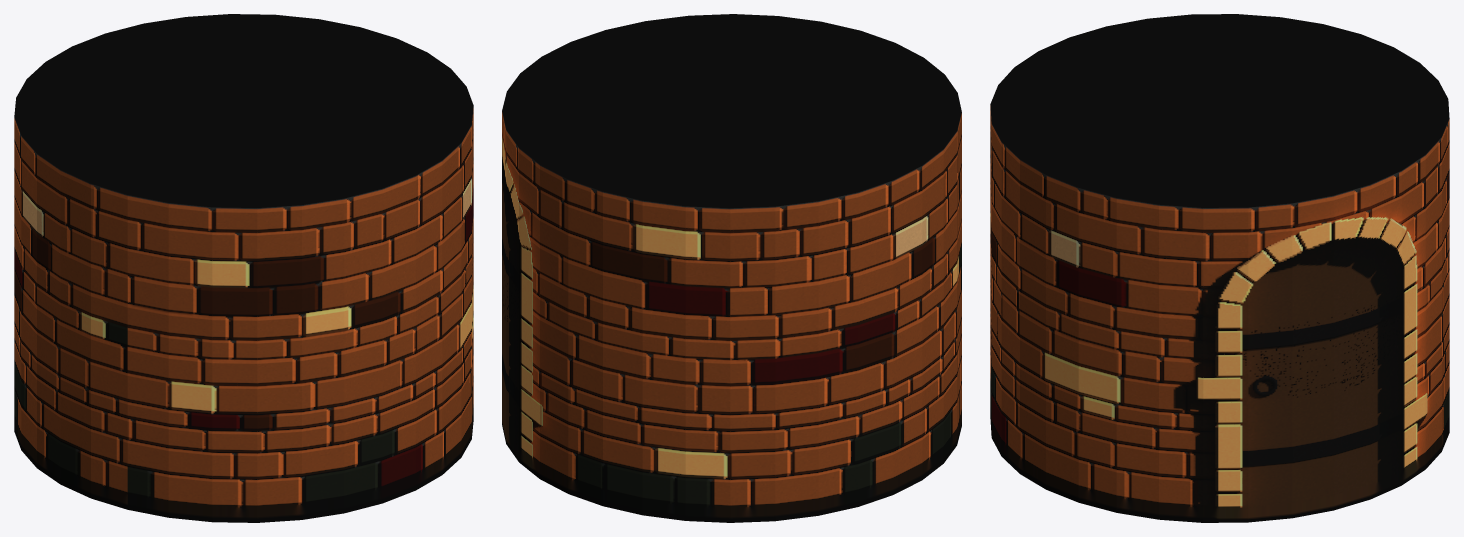
The model's file is tower-sections-low-detail.glb.
3 views of the same model, side by side, from view 1: azimuth 30°, elevation 25°; view 2: azimuth 150°, elevation 25°; view 3: azimuth 270°, elevation 25° (orthographic).
Parts seen in each view (by area): view 1: Cylinder; view 2: Cylinder; view 3: Cylinder.
Boxes of the visible parts, x1=… form: Cylinder: x1=14, y1=14, x2=473, y2=522; Cylinder: x1=502, y1=14, x2=961, y2=522; Cylinder: x1=990, y1=14, x2=1449, y2=522.
Size of the model in its own units: 2.89 by 2.19 by 2.89.
1 material, 1 textured.
